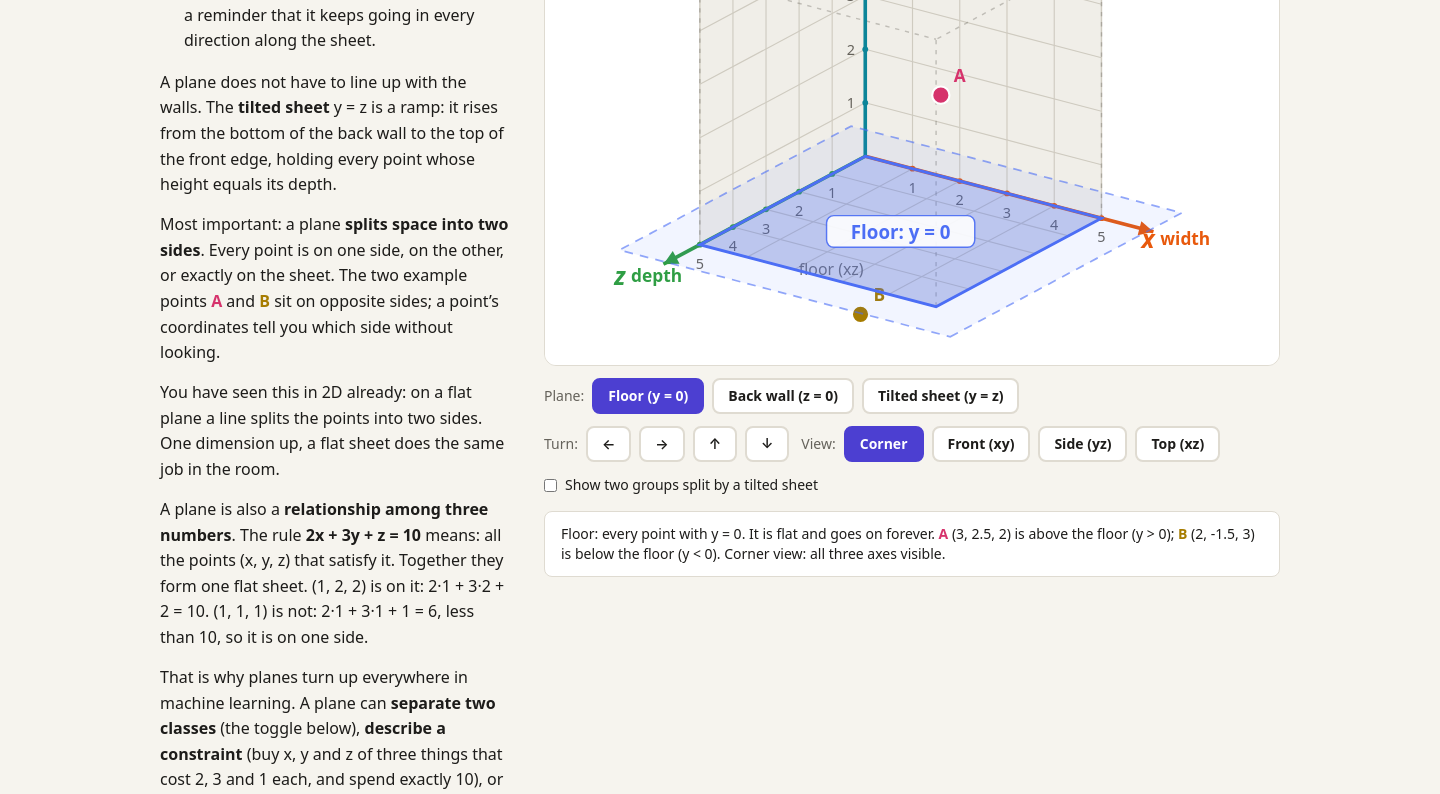
Test case: the planes section of the lesson › starts on the floor, and the buttons switch plane
The image size is (1440, 794).
(page scrolled)
Click the button "Tilted sheet (y = z)": coordinates (941, 396) x1=862 y1=378 x2=1020 y2=414
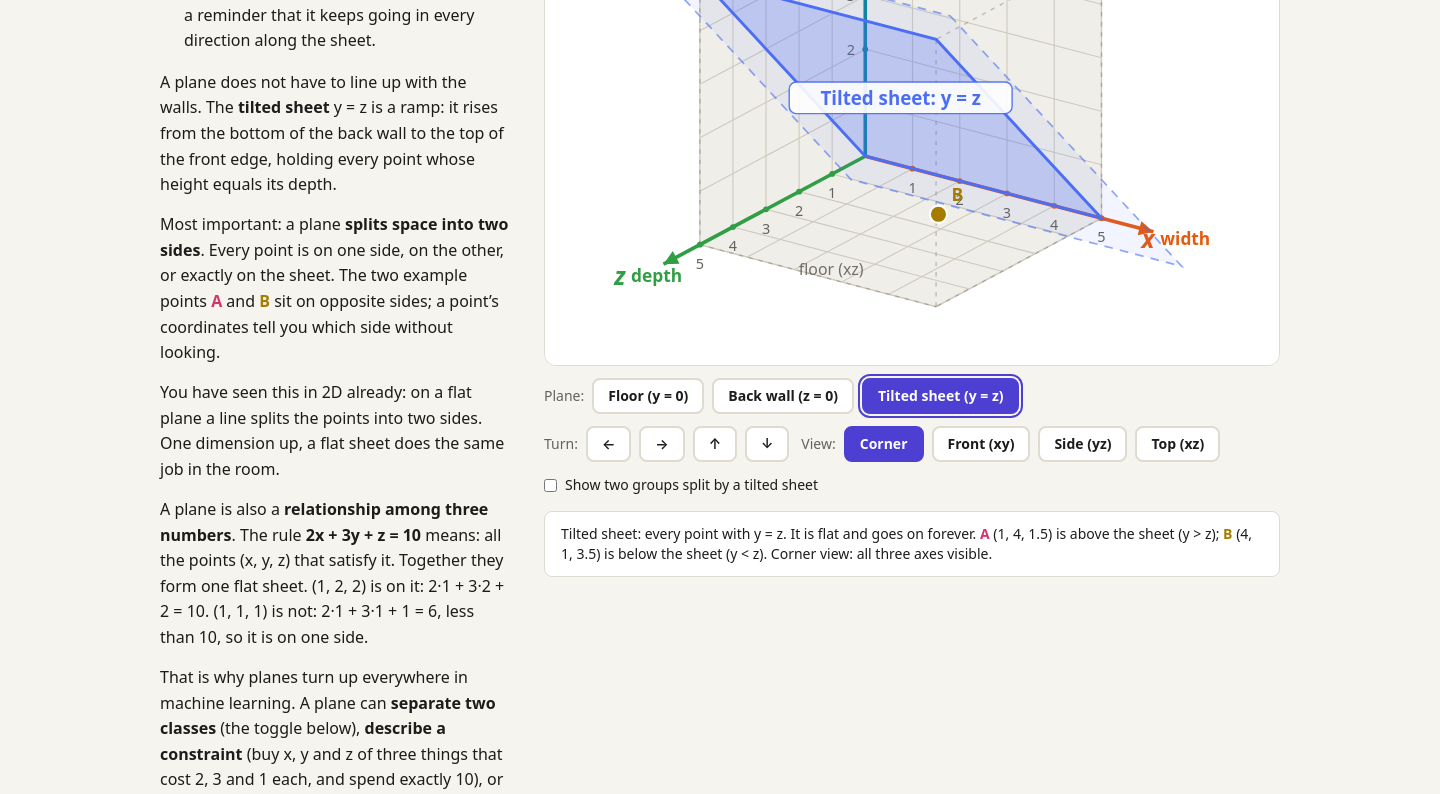
Expected: the text "Tilted sheet: y = z" is shown, x1=820 y1=85 x2=981 y2=110
Expected: the button "Tilted sheet (y = z)" is pressed, x1=862 y1=378 x2=1020 y2=414
